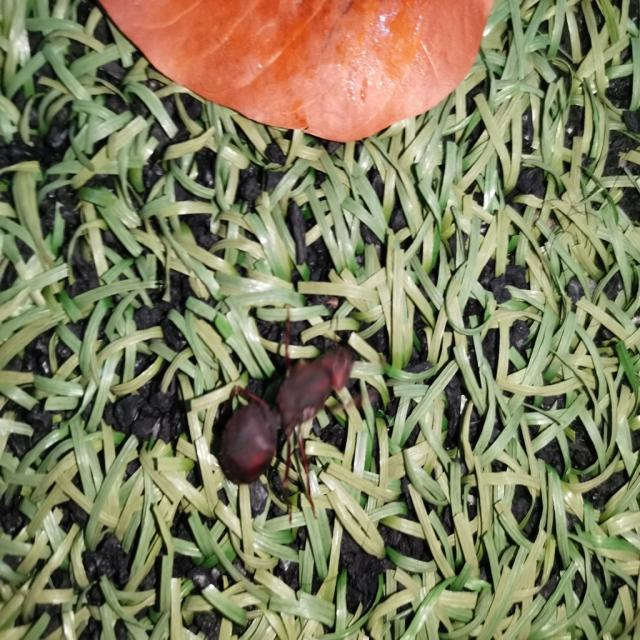Alive-Female-Dealate: (216, 304, 378, 525)
